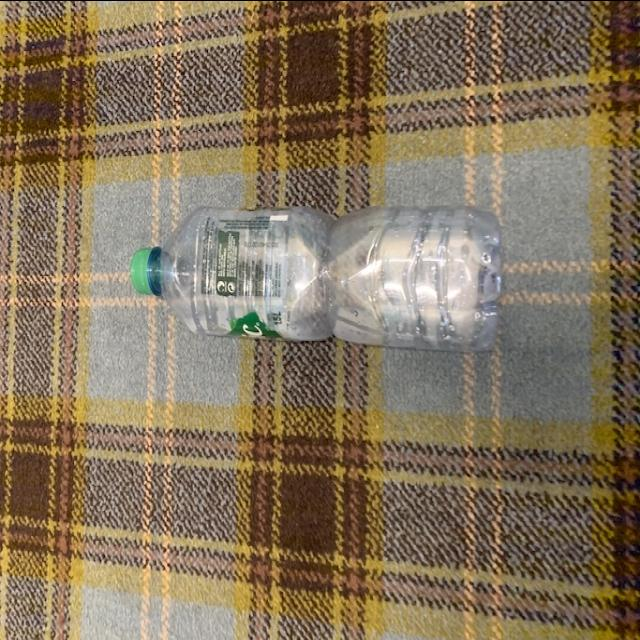PET: (132, 206, 508, 350)
